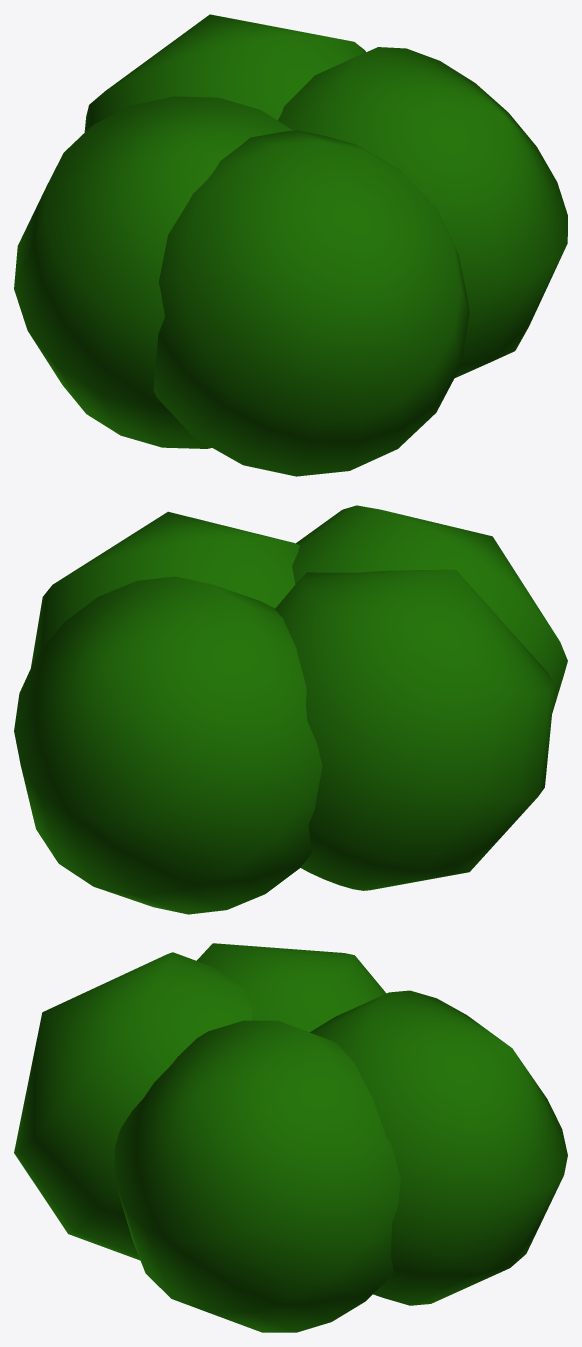
File: Bush.fbx
The picture shows the model from 3 angles, top to bottom: view 1: azimuth 30°, elevation 25°; view 2: azimuth 150°, elevation 25°; view 3: azimuth 270°, elevation 25°; orthographic projection. The views are drawn at different scales.
Visible parts, largest first — view 1: pSphere12; view 2: pSphere12; view 3: pSphere12.
Boxes of the visible parts, bbox=[...] form: pSphere12: bbox=[14, 14, 567, 476]; pSphere12: bbox=[14, 505, 567, 914]; pSphere12: bbox=[14, 943, 567, 1332].
Size of the model in its own units: 3.26 by 1.99 by 3.5.
